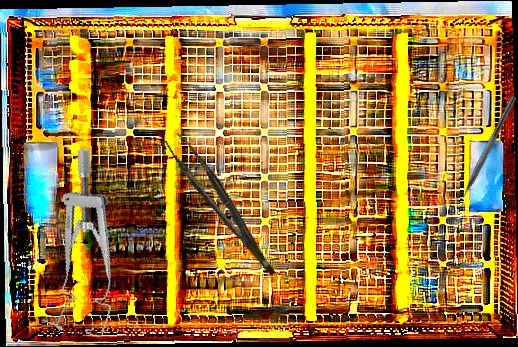Chopper: (450, 91, 517, 209)
Speculum: (27, 146, 152, 343)
Tissue Forceps: (164, 126, 276, 288)
